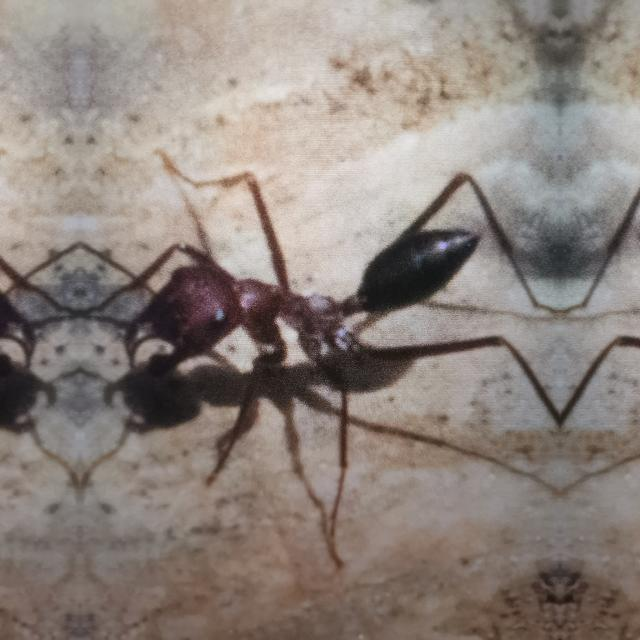Cataglyphis: (101, 157, 516, 488)
